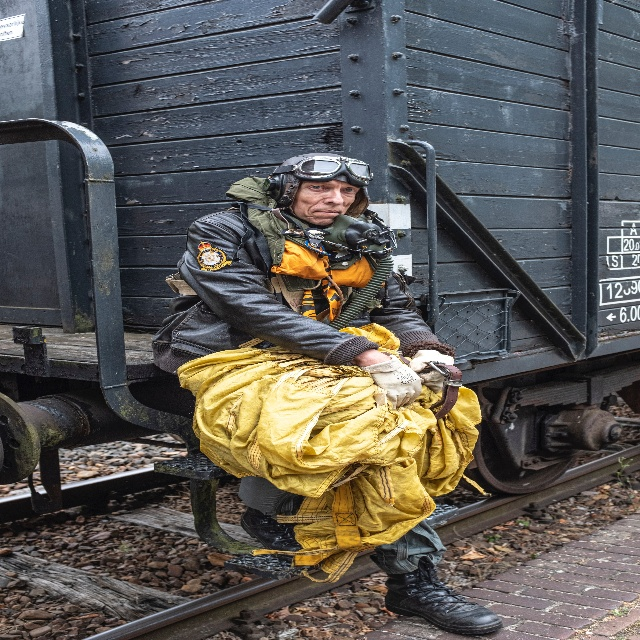Gafas: (274, 157, 374, 182)
Guantes: (360, 354, 422, 409), (409, 348, 454, 394)
